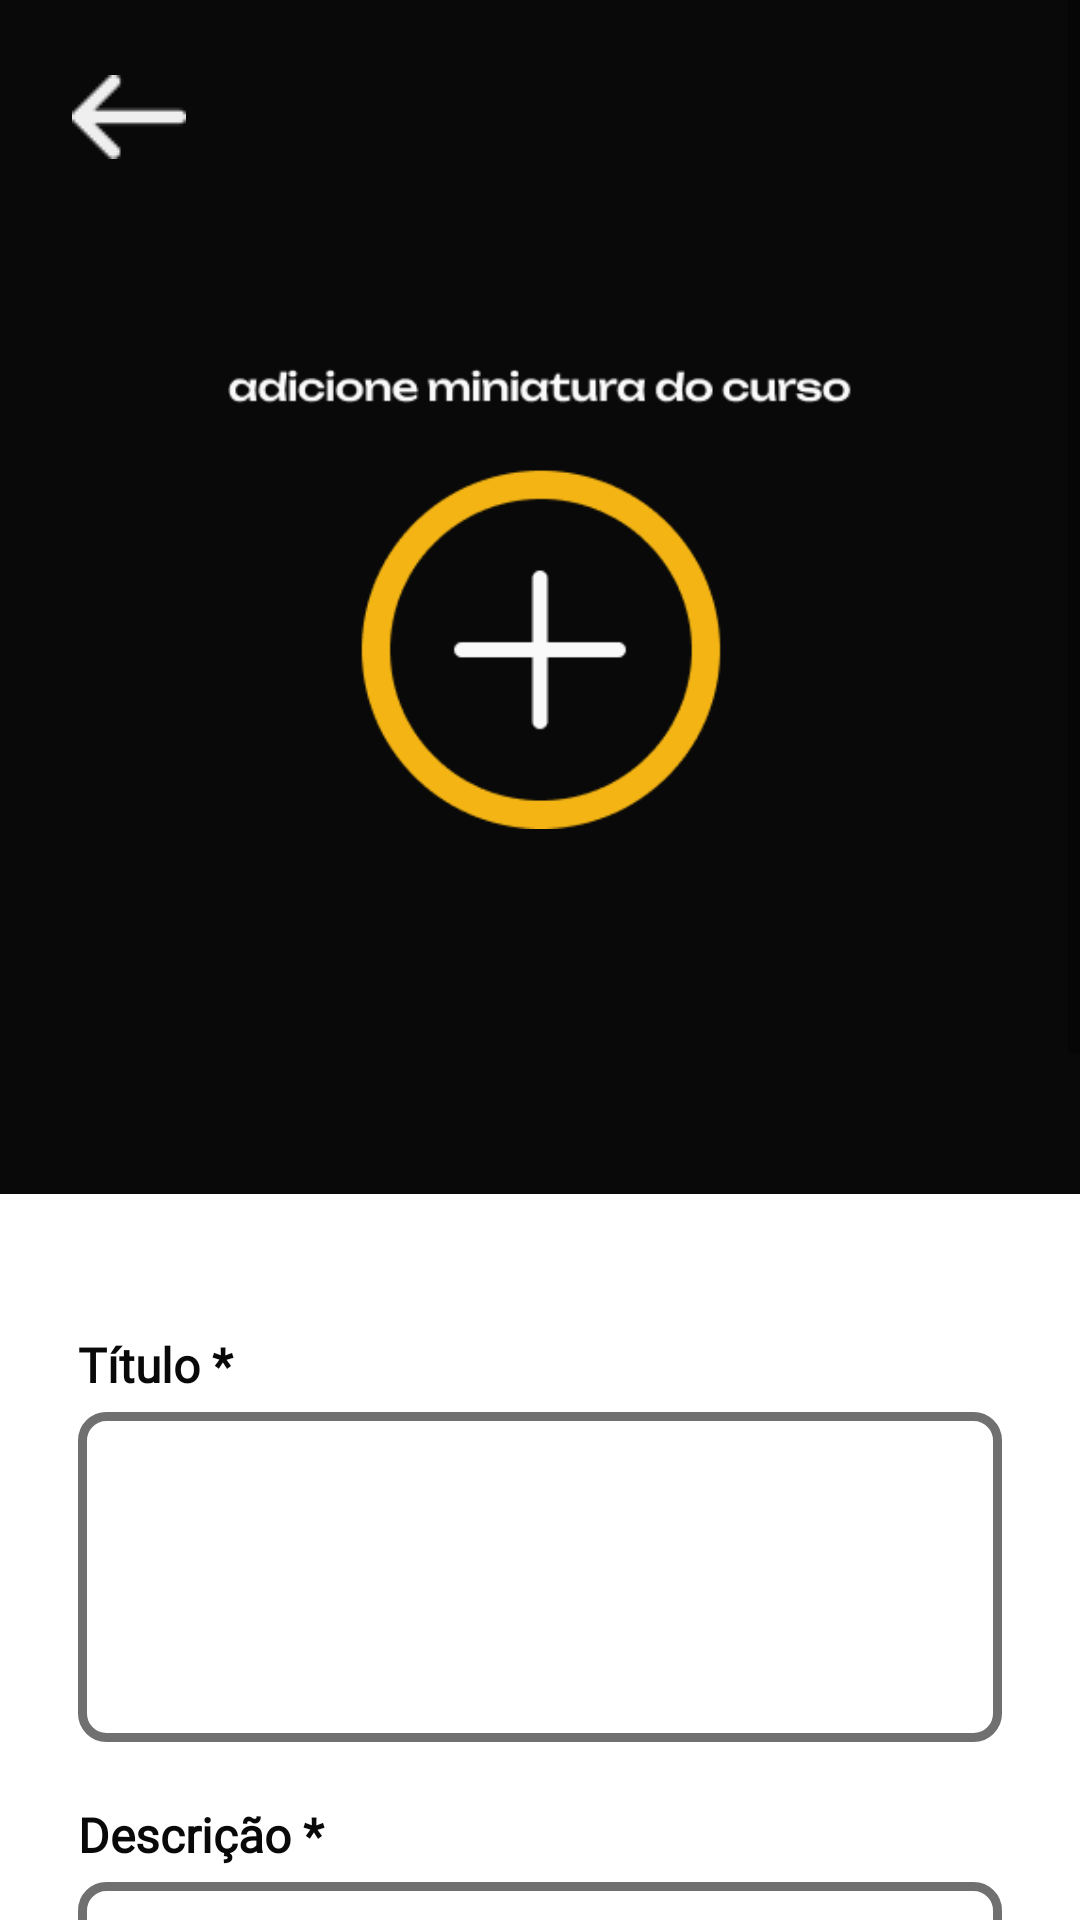

Where to tap for icons on this 1080px×1920px app screen, as point (x, y):
left arrow: point (129, 117)
